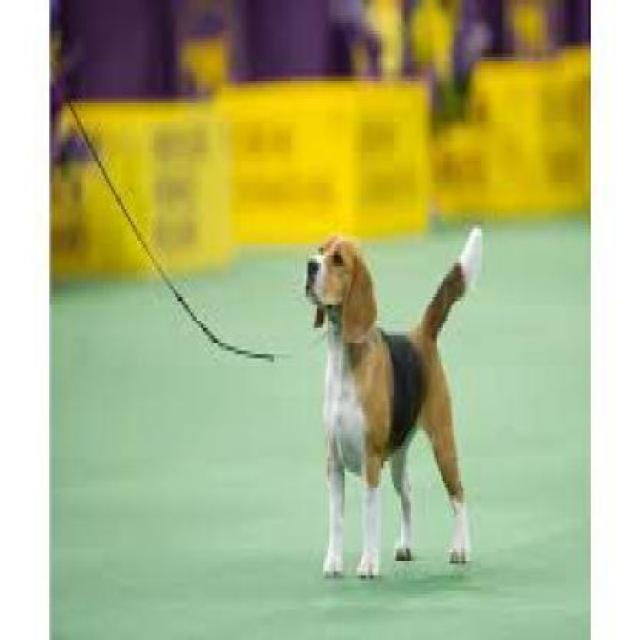Dog: (302, 220, 486, 588)
